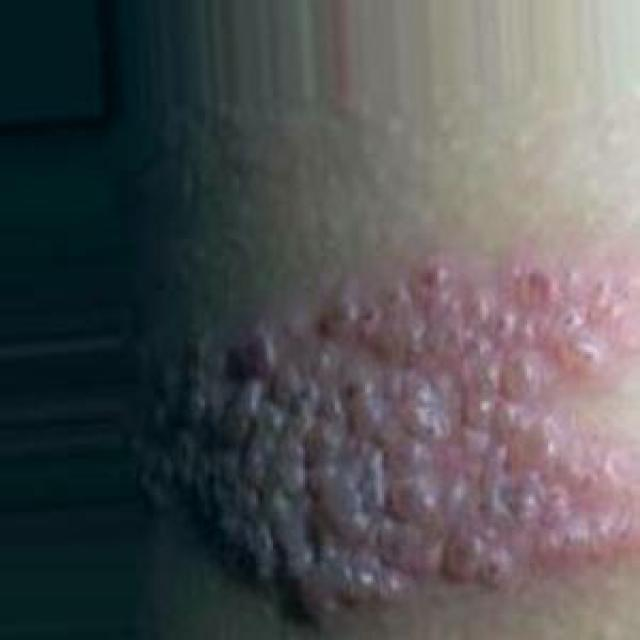Shingles: (148, 267, 640, 633)
